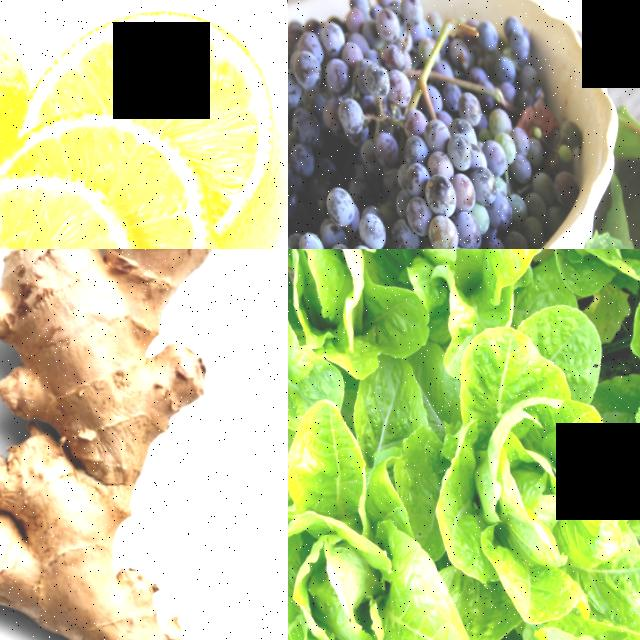ginger: (0, 249, 288, 640)
grapes: (288, 0, 429, 181), (360, 97, 523, 249), (288, 183, 404, 249)
lemon: (51, 0, 288, 249)
lettuce: (393, 318, 640, 640), (288, 399, 475, 640), (288, 249, 582, 379), (598, 270, 640, 579)
